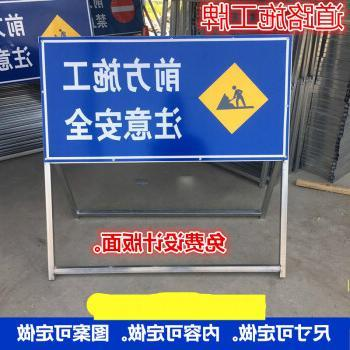sign: (40, 35, 290, 164)
